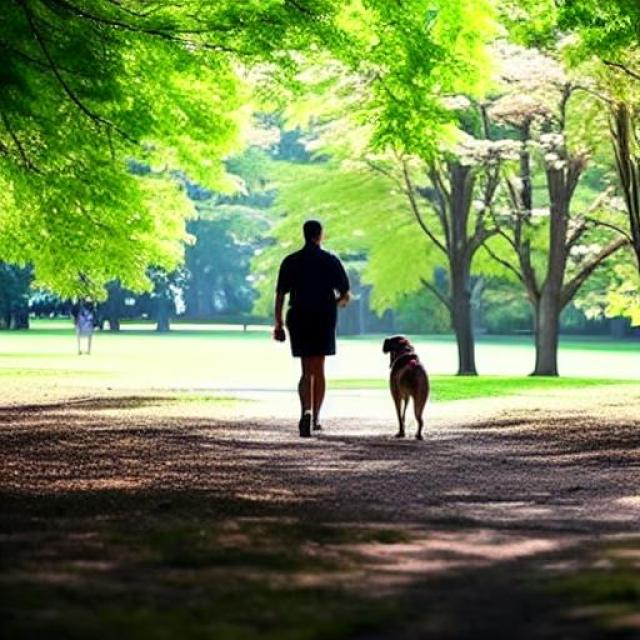Unleashed_Dog: (292, 312, 429, 441)
